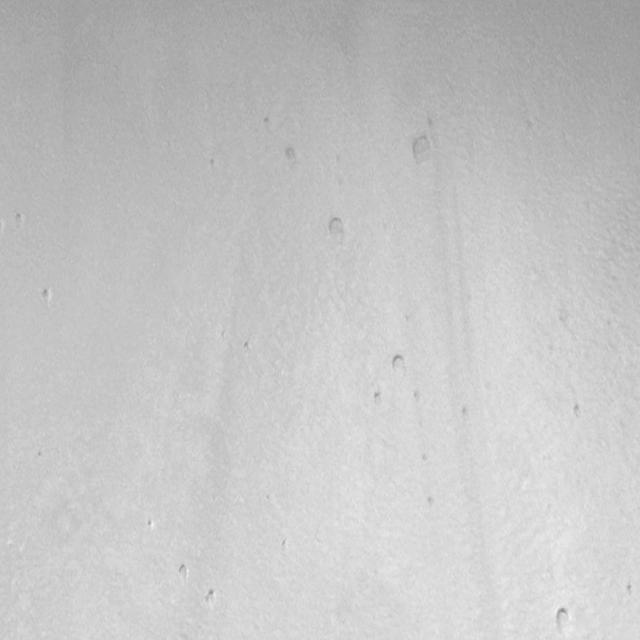pin holes: (408, 133, 435, 169), (552, 603, 577, 637), (325, 213, 347, 242), (569, 398, 590, 422), (391, 353, 409, 377), (370, 389, 388, 412), (37, 284, 54, 308), (176, 563, 194, 585), (423, 491, 439, 514), (283, 145, 299, 167), (203, 587, 219, 606), (13, 212, 28, 230), (262, 115, 276, 134), (417, 449, 433, 465), (623, 580, 637, 598), (279, 536, 291, 556), (460, 405, 474, 422), (205, 156, 218, 173), (144, 516, 156, 532), (242, 338, 254, 354), (411, 390, 423, 406)
